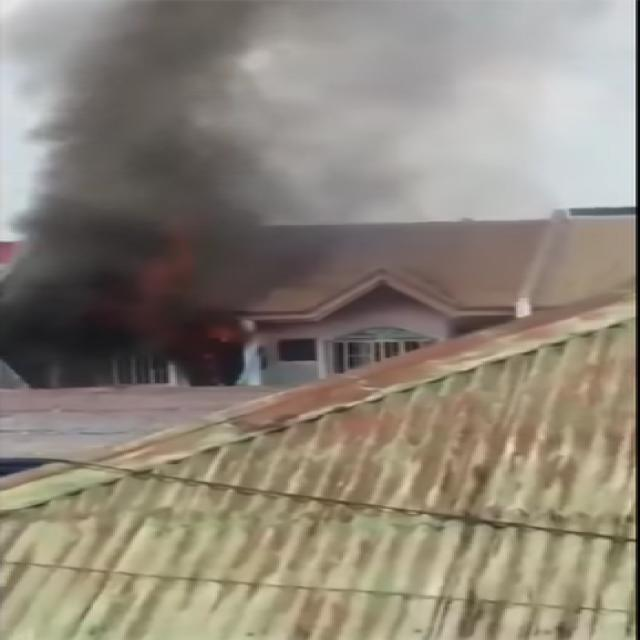Fire: (162, 309, 237, 357)
Smoke: (2, 0, 259, 365)
